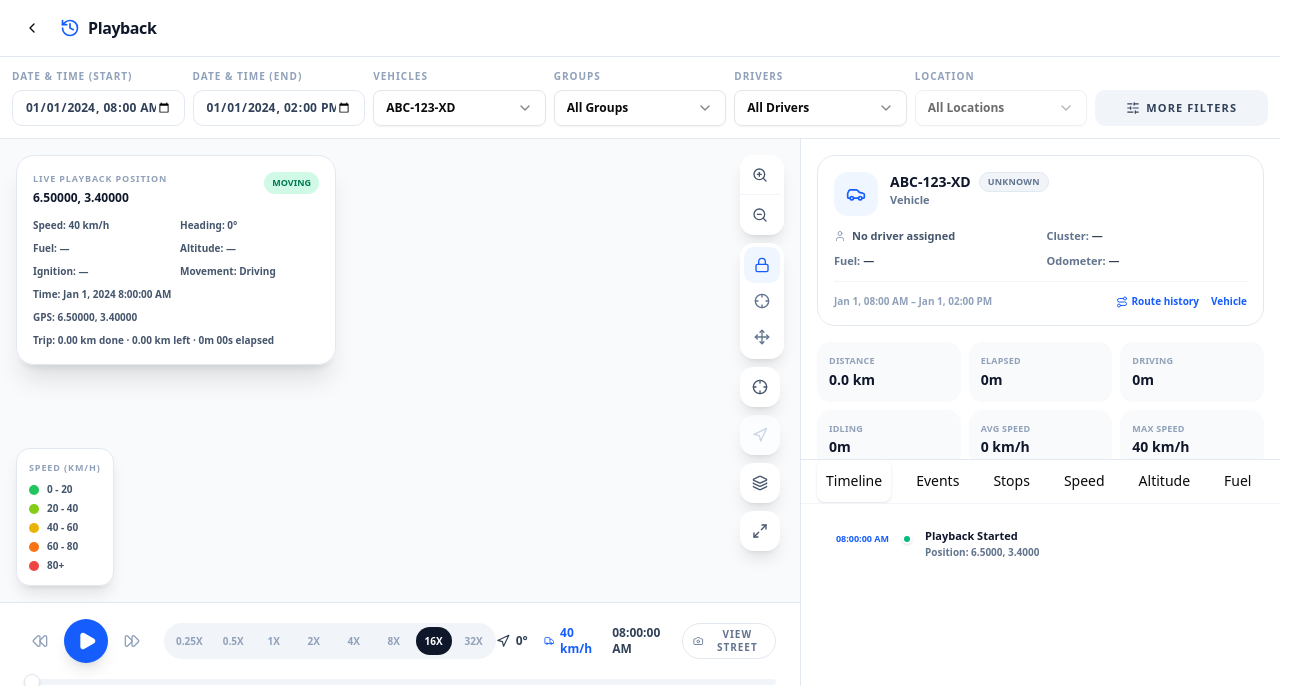
it: PlaybackPage › renders the summary panel by default and swaps to advanced filters when More Filters is clicked
Click the button "More Filters" at (1182, 108), box [1095,90,1268,126]
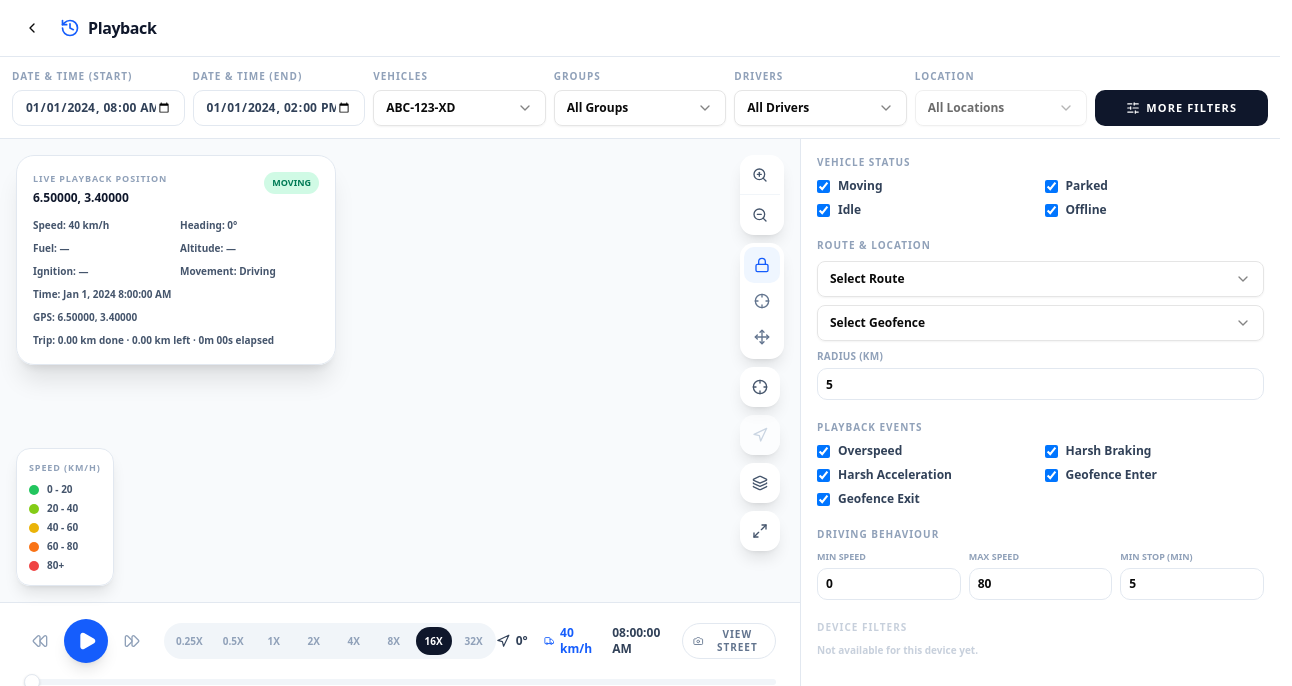
expect the heading "Vehicle Status" is shown: met, box [817,155,910,169]
